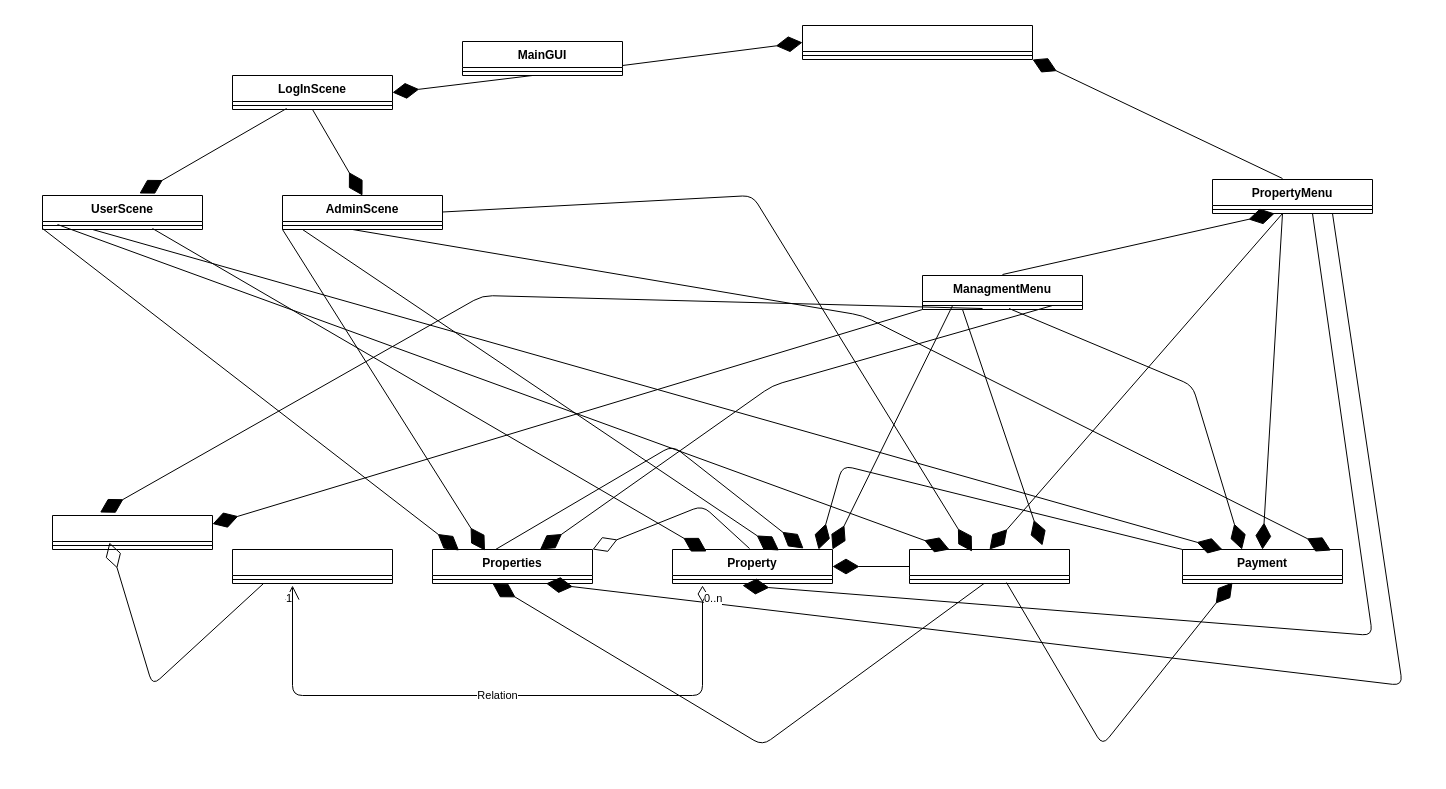
Some shapes in this 1446 by 789 pixel diagram are drawn without their labels. The centre of each missing label's shape, as x and y in pixels:
Owner: the point at 989,566
PropertySystem: the point at 917,42
PropertyTax: the point at 312,566
TaxCalculator: the point at 132,532
